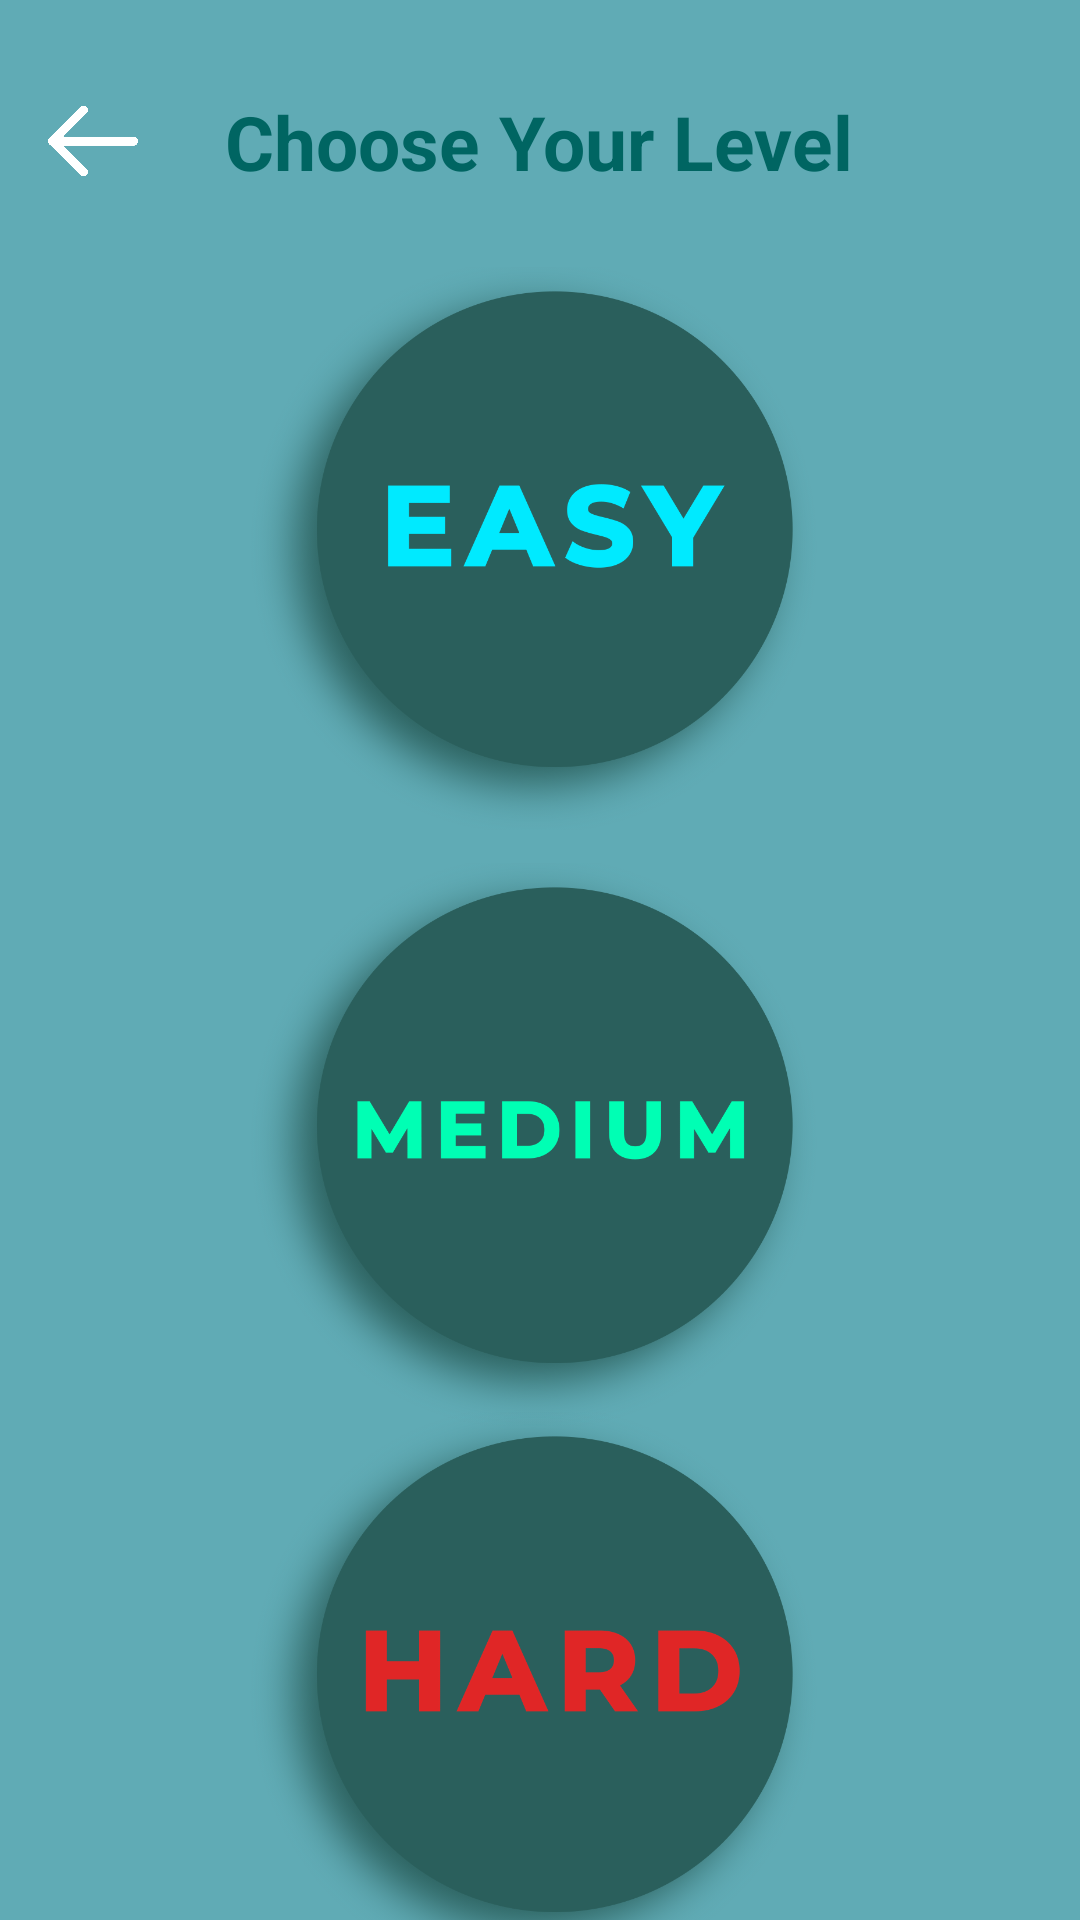

Icon click points for this 1080px×1920px phone screenshot, format (x,y):
backarrow: (93,141)
